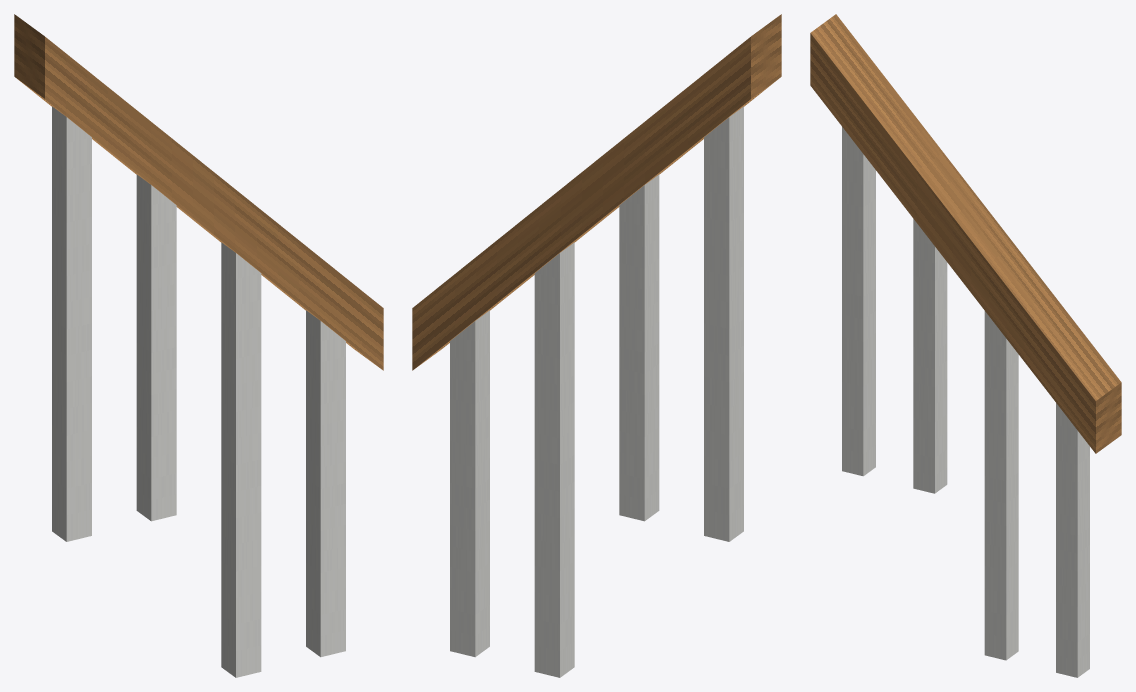
File: mid_neg.obj
The picture shows the model from 3 angles, left to right: view 1: azimuth 30°, elevation 25°; view 2: azimuth 150°, elevation 25°; view 3: azimuth 330°, elevation 25°; orthographic projection. The views are drawn at different scales.
Parts seen in each view (by area): view 1: railing_baluster_oak_mid_neg; view 2: railing_baluster_oak_mid_neg; view 3: railing_baluster_oak_mid_neg.
Part boxes in pixels (box(x1,y1,x2,y2)): railing_baluster_oak_mid_neg: box(14, 14, 383, 677); railing_baluster_oak_mid_neg: box(412, 14, 781, 677); railing_baluster_oak_mid_neg: box(810, 14, 1121, 677).
Bounding box in the file's own units: 1 × 1.96 × 0.1562.
